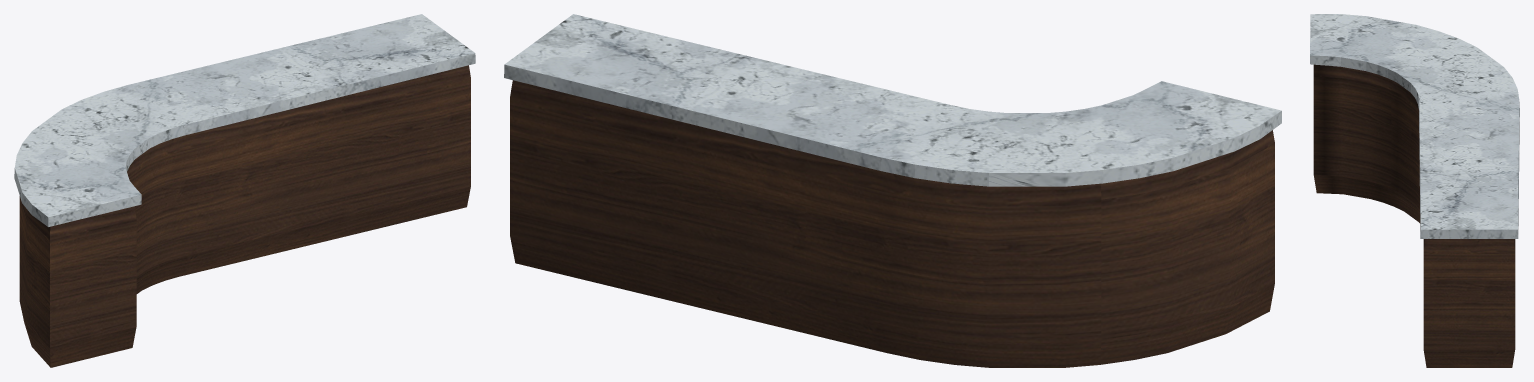
Rendered from FUR0210053.fbx.
3 renders of one model, left to right at view 1: azimuth 30°, elevation 25°; view 2: azimuth 150°, elevation 25°; view 3: azimuth 270°, elevation 25°, orthographic. The views are drawn at different scales.
Visible parts, largest first — view 1: smFUR0210053; view 2: smFUR0210053; view 3: smFUR0210053.
Part boxes in pixels (bbox=[...]): smFUR0210053: bbox=[14, 14, 475, 367]; smFUR0210053: bbox=[504, 14, 1281, 367]; smFUR0210053: bbox=[1310, 14, 1519, 367].
Bounding box in the file's own units: 374 × 113 × 153.
Materials: 1 (1 with a texture image).
